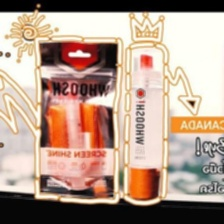cleaning_solution: (122, 39, 170, 204)
